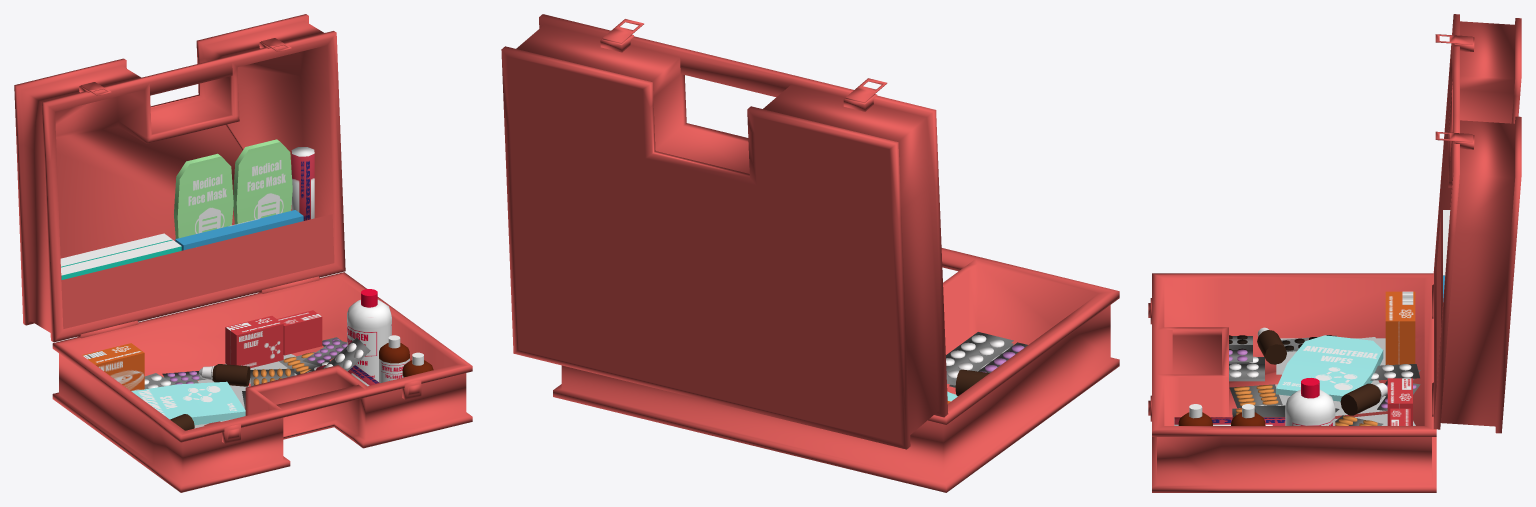
File: FirstAidKit_Open.fbx
3 renders of one model, left to right at view 1: azimuth 30°, elevation 25°; view 2: azimuth 150°, elevation 25°; view 3: azimuth 270°, elevation 25°, orthographic. The views are drawn at different scales.
Parts seen in each view (by area): view 1: FirstAidKit_Open; view 2: FirstAidKit_Open; view 3: FirstAidKit_Open.
Part boxes in pixels (<box>): FirstAidKit_Open: <box>14,14,472,492</box>; FirstAidKit_Open: <box>501,14,1119,492</box>; FirstAidKit_Open: <box>1148,14,1521,492</box>.
Bounding box in the file's own units: 33.98 × 32.62 × 33.95.
